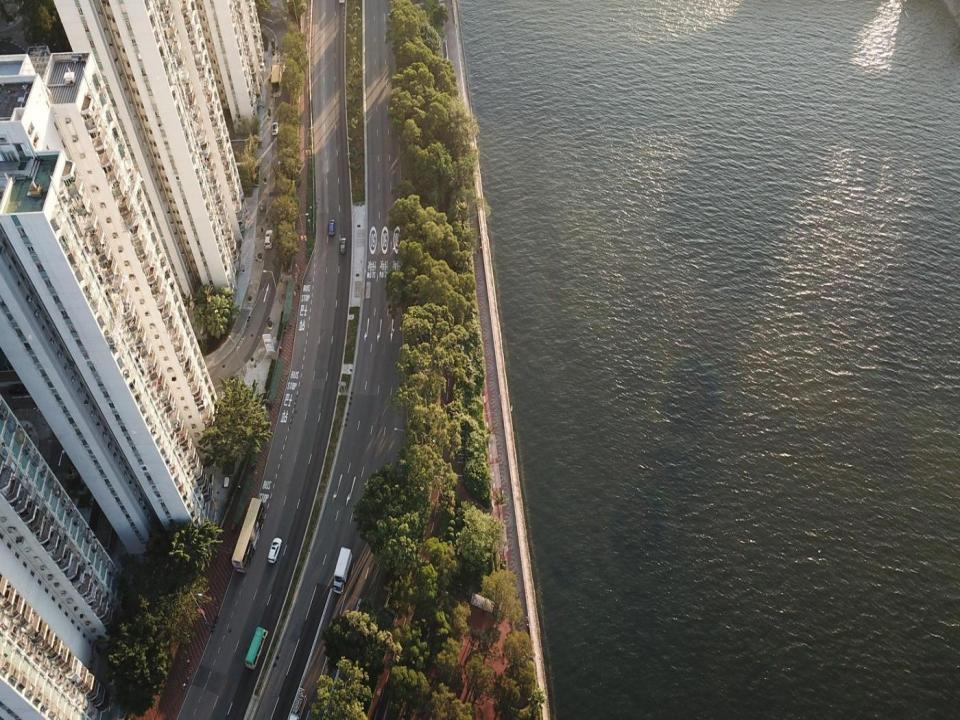bus: (231, 497, 266, 574), (246, 626, 268, 671)
car: (269, 537, 281, 564), (264, 230, 274, 249), (327, 219, 336, 237), (339, 237, 347, 255), (270, 121, 278, 134)
truck: (332, 546, 352, 593)
